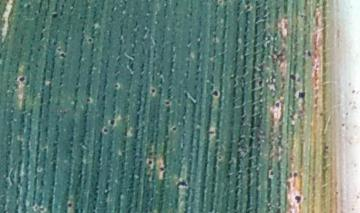tarspot: (176, 179, 188, 189), (297, 90, 306, 99), (288, 73, 297, 81), (294, 195, 302, 203), (212, 89, 219, 98), (51, 12, 58, 20), (158, 165, 165, 172), (171, 125, 178, 132), (274, 101, 281, 108), (18, 76, 25, 82), (109, 119, 115, 126), (102, 127, 108, 134), (146, 159, 153, 165), (164, 100, 171, 106), (292, 171, 298, 178), (258, 79, 263, 87), (59, 52, 65, 58), (150, 88, 156, 94), (306, 50, 312, 56), (269, 170, 275, 176), (87, 37, 92, 43), (86, 97, 91, 103), (67, 202, 72, 208), (114, 83, 119, 88), (34, 205, 38, 210)
